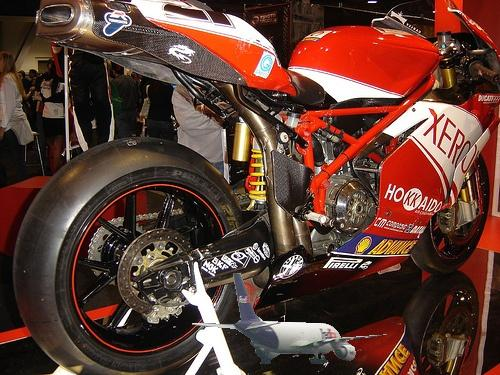tampered: (193, 274, 387, 364)
